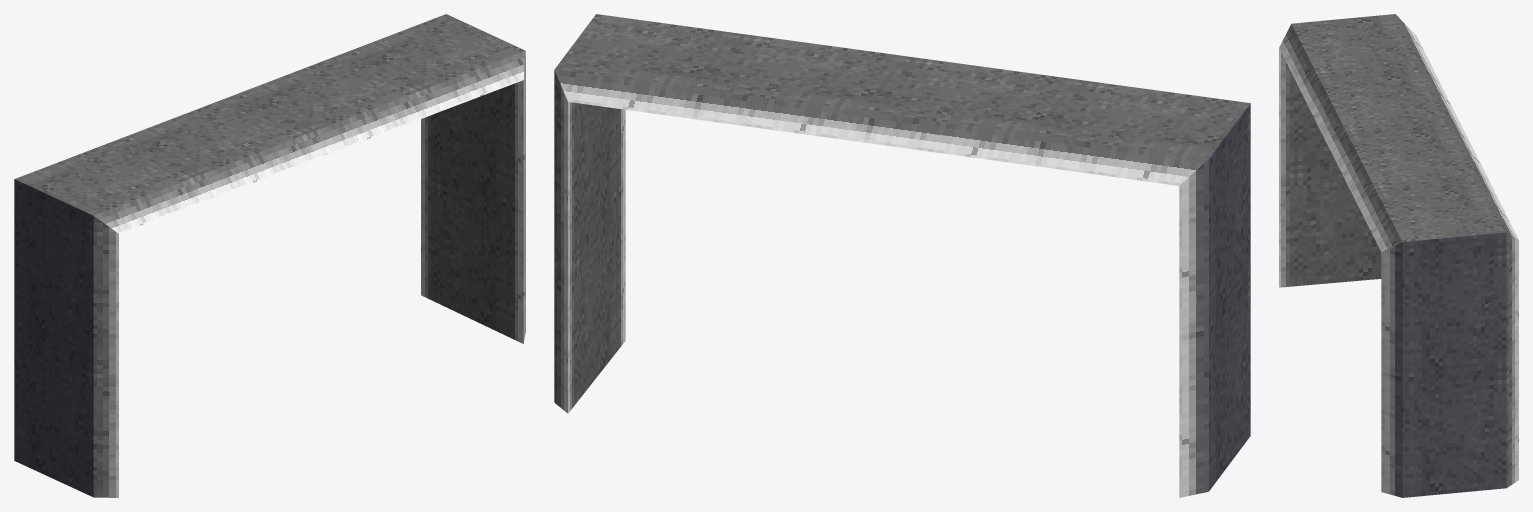
File: primary_052.glb
The picture shows the model from 3 angles, left to right: view 1: azimuth 30°, elevation 25°; view 2: azimuth 150°, elevation 25°; view 3: azimuth 270°, elevation 25°; orthographic projection. The views are drawn at different scales.
Parts seen in each view (by area): view 1: Object; view 2: Object; view 3: Object.
Boxes of the visible parts, x1,y1,x2,y2 form: Object: (14, 14, 525, 497); Object: (554, 14, 1250, 497); Object: (1279, 14, 1518, 497).
Size of the model in its own units: 0.6922 by 0.3619 by 0.3077.
Materials: 3 (3 with a texture image).
